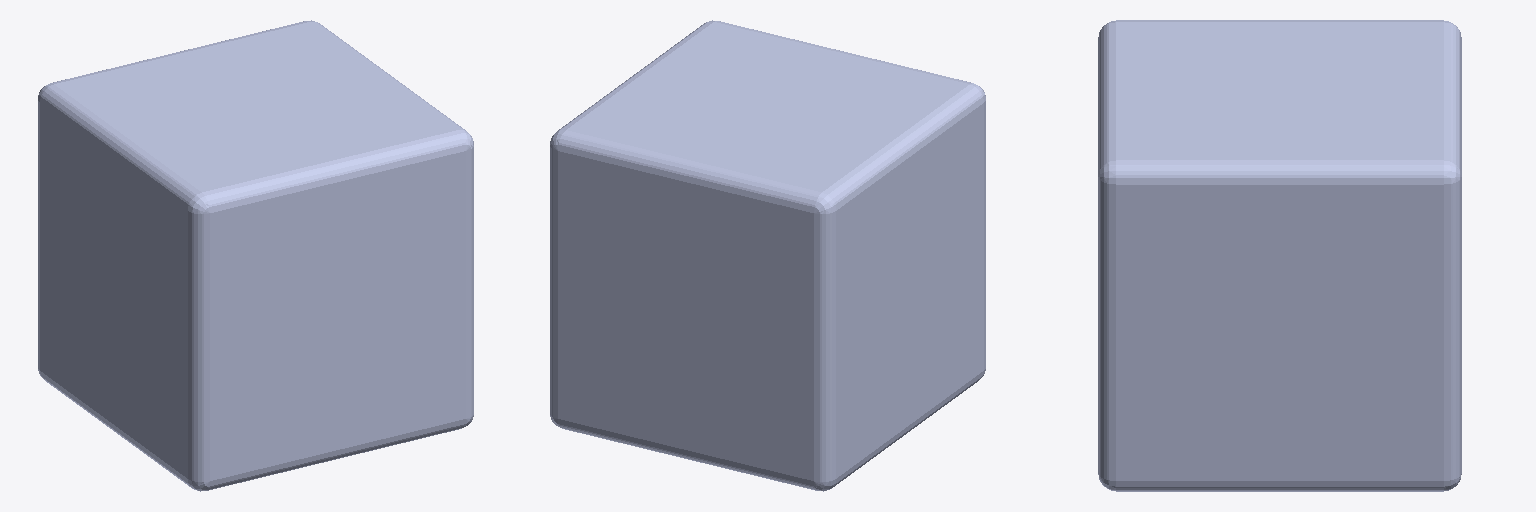
URDF robot description (Hand):
<?xml version="1.0" encoding="utf-8"?>
<!-- This URDF was automatically created by SolidWorks to URDF Exporter! Originally created by [author] ([email redacted]) 
     Commit Version: 1.5.1-0-g916b5db  Build Version: 1.5.7152.31018
     For more information, please see http://wiki.ros.org/sw_urdf_exporter -->
<robot
  name="Hand">
  <link
    name="Hand">
    <inertial>
      <origin
        xyz="0.01 0.01 0.01"
        rpy="0 0 0" />
      <mass
        value="0.0079498" />
      <inertia
        ixx="5.2588E-07"
        ixy="-2.6758E-24"
        ixz="-8.0779E-24"
        iyy="5.2588E-07"
        iyz="-6.2907E-24"
        izz="5.2588E-07" />
    </inertial>
    <visual>
      <origin
        xyz="0 0 0"
        rpy="1.5707963267949 0 0" />
      <geometry>
        <mesh
          filename="package://Hand/meshes/Hand.STL" />
      </geometry>
      <material
        name="">
        <color
          rgba="0.79216 0.81961 0.93333 1" />
        <texture
          filename="package://Hand/textures/" />
      </material>
    </visual>
    <collision>
      <origin
        xyz="0 0 0"
        rpy="1.5707963267949 0 0" />
      <geometry>
        <mesh
          filename="package://Hand/meshes/Hand.STL" />
      </geometry>
    </collision>
  </link>
</robot>

--- What the picture shows (computed from the rendered views, not written in the file) ---
The picture shows the robot from 3 angles, left to right: view 1: azimuth 30°, elevation 25°; view 2: azimuth 150°, elevation 25°; view 3: azimuth 270°, elevation 25°; orthographic projection.
Robot: Hand — 1 links, 0 joints (none); root link Hand; default pose: every joint at zero.
Links seen in each view (by area): view 1: Hand; view 2: Hand; view 3: Hand.
Boxes of the visible links, bbox=[...] form: Hand: bbox=[38, 20, 473, 491]; Hand: bbox=[550, 20, 985, 491]; Hand: bbox=[1098, 20, 1461, 491].
Bounding box of the posed robot: 0.02 × 0.02 × 0.02 m (x, y, z).
1 mesh visuals loaded from 1 distinct referenced files (1 binary STL).